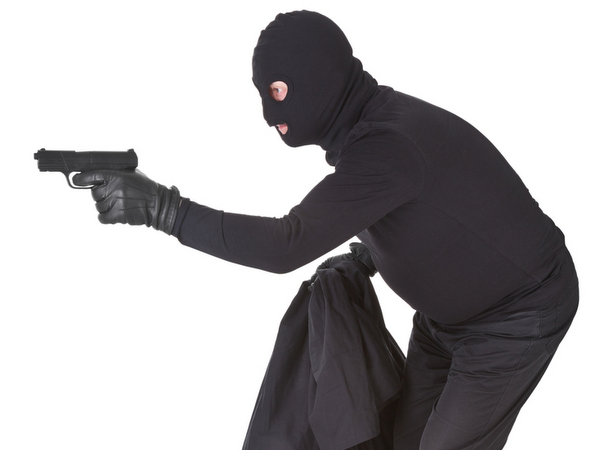thief: (32, 7, 562, 298), (229, 6, 375, 168)
weapon: (25, 139, 174, 240)
